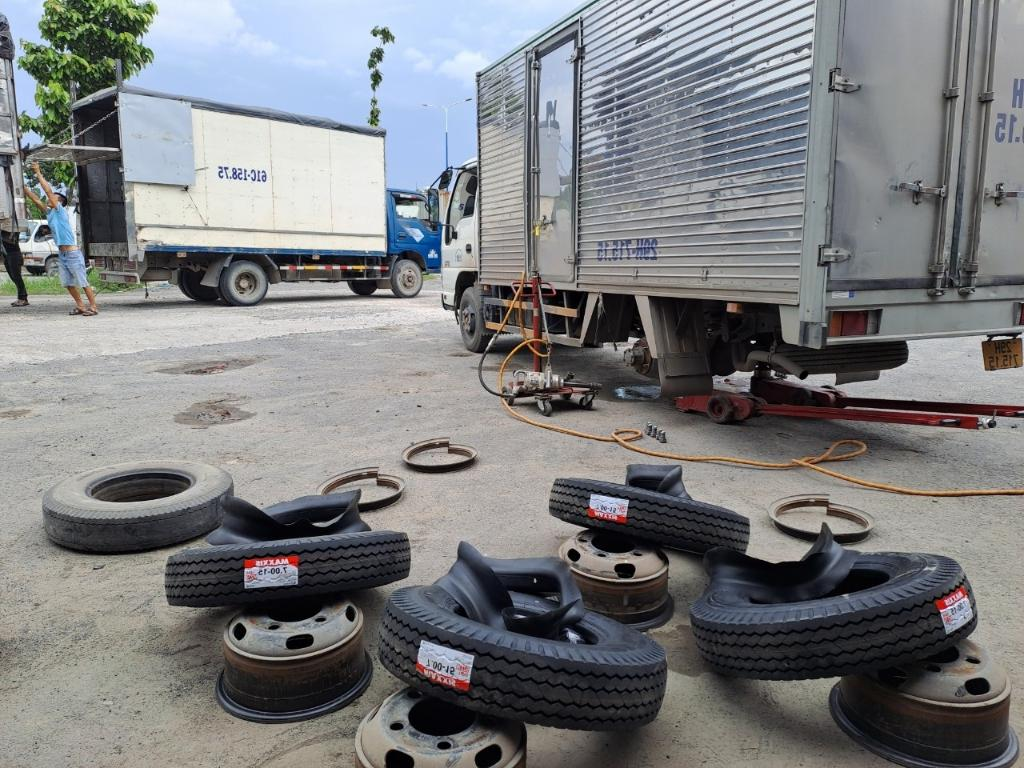ROAD_OBSTACLE: (394, 560, 674, 730), (694, 540, 979, 670), (184, 500, 424, 610), (64, 460, 254, 555), (559, 475, 759, 555)
